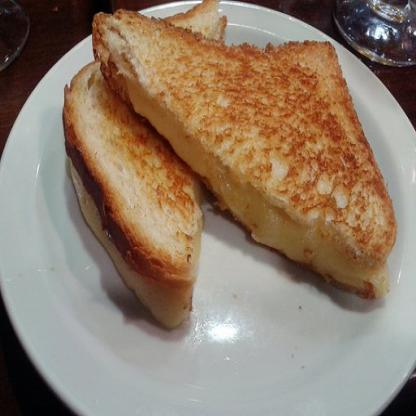toast bread: (92, 11, 393, 300), (62, 0, 219, 334)
